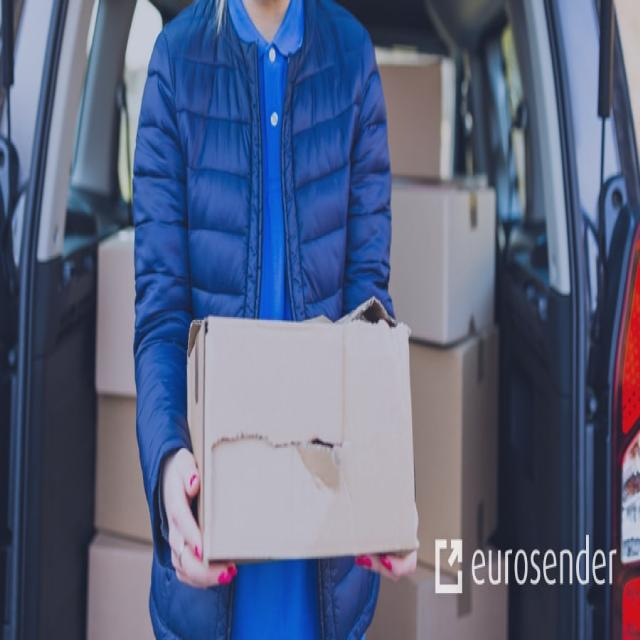Kardus kondisi rusak: (190, 302, 419, 576)
